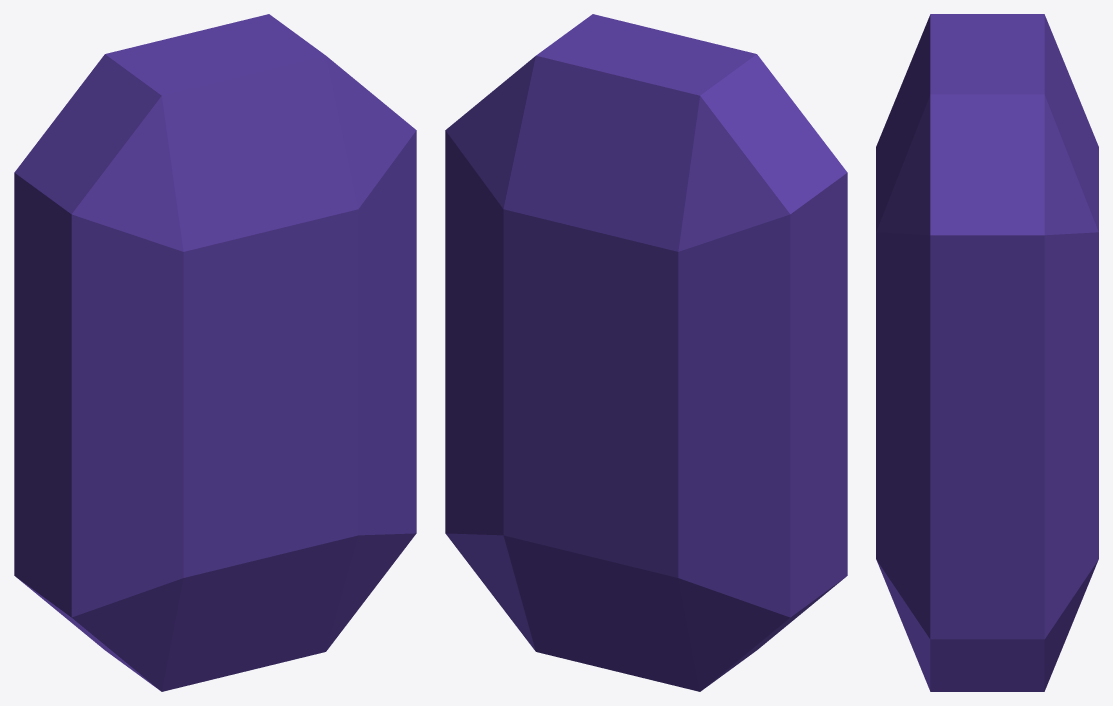
The model's file is quaternius-rpg-items-crystal-1.glb.
3 views of the same model, side by side, from view 1: azimuth 30°, elevation 25°; view 2: azimuth 150°, elevation 25°; view 3: azimuth 270°, elevation 25° (orthographic).
Visible parts, largest first — view 1: Crystal1; view 2: Crystal1; view 3: Crystal1.
Boxes of the visible parts, x1,y1,x2,y2 form: Crystal1: [14, 14, 416, 691]; Crystal1: [445, 14, 847, 691]; Crystal1: [876, 14, 1098, 691].
Size of the model in its own units: 0.458 by 0.7564 by 0.2554.
